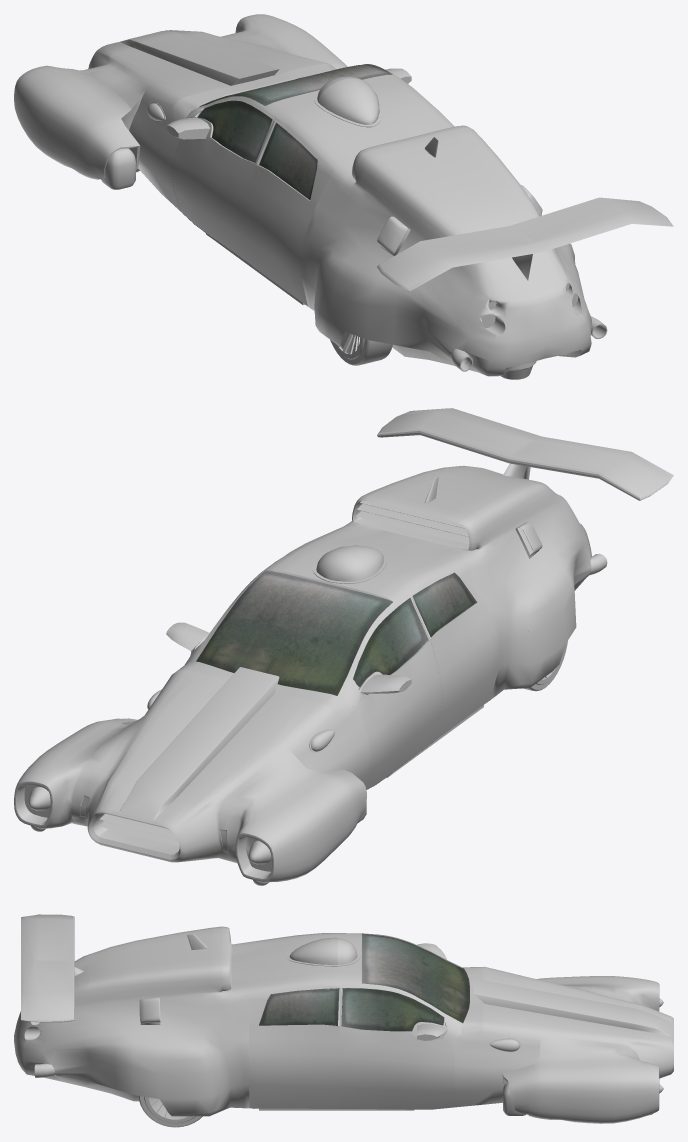
File: FlyingCarNYPD.FBX
The picture shows the model from 3 angles, top to bottom: view 1: azimuth 30°, elevation 25°; view 2: azimuth 150°, elevation 25°; view 3: azimuth 270°, elevation 25°; orthographic projection. The views are drawn at different scales.
Parts seen in each view (by area): view 1: FlyingCar1, LeftFrontDoor, LeftBackDoor, LeftFrontWindow, BackLeftWindow, Glass, LeftBackWheel, FrontThrusters; view 2: FlyingCar1, Glass, LeftFrontDoor, LeftBackDoor, LeftFrontWindow, BackLeftWindow, TopCover, RightDoor; view 3: FlyingCar1, RightDoor, RightBackDoor, Glass, RightFrontWindow, BackRightWindow, RightBackWheel, TopCover.
Boxes of the visible parts, x1,y1,x2,y2 form: FlyingCar1: (14,14,673,376); LeftFrontDoor: (166,98,275,265); LeftBackDoor: (243,117,333,305); LeftFrontWindow: (198,100,272,162); BackLeftWindow: (259,122,317,199); Glass: (199,65,392,106); LeftBackWheel: (330,333,392,365); FrontThrusters: (101,148,135,189); FlyingCar1: (14,408,673,885); Glass: (196,571,392,695); LeftFrontDoor: (341,594,442,789); LeftBackDoor: (409,563,498,741); LeftFrontWindow: (353,598,426,687); BackLeftWindow: (413,573,475,637); TopCover: (316,551,367,581); RightDoor: (166,563,273,664); FlyingCar1: (14,914,673,1123); RightDoor: (340,985,461,1109); RightBackDoor: (249,985,340,1108); Glass: (362,933,469,1022); RightFrontWindow: (341,988,444,1031); BackRightWindow: (259,988,338,1025); RightBackWheel: (138,1096,202,1127); TopCover: (337,938,357,964).
Bounding box in the file's own units: 248 × 163 × 630.
